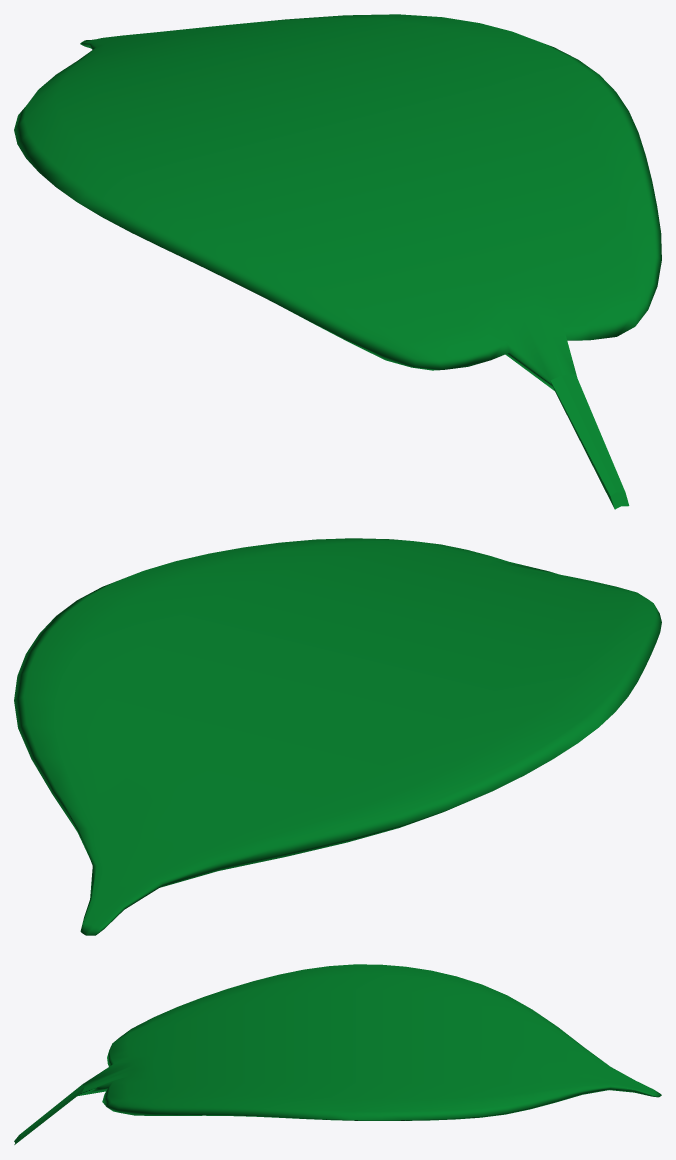
File: 1Newleaf1.fbx
3 views of the same model, one above another, from view 1: azimuth 30°, elevation 25°; view 2: azimuth 150°, elevation 25°; view 3: azimuth 270°, elevation 25° (orthographic). The views are drawn at different scales.
Parts seen in each view (by area): view 1: pCube1; view 2: pCube1; view 3: pCube1.
Boxes of the visible parts, bbox=[...] form: pCube1: bbox=[14, 14, 661, 509]; pCube1: bbox=[14, 538, 661, 935]; pCube1: bbox=[14, 964, 661, 1144].
Size of the model in its own units: 2.81 by 0.8977 by 4.97.
